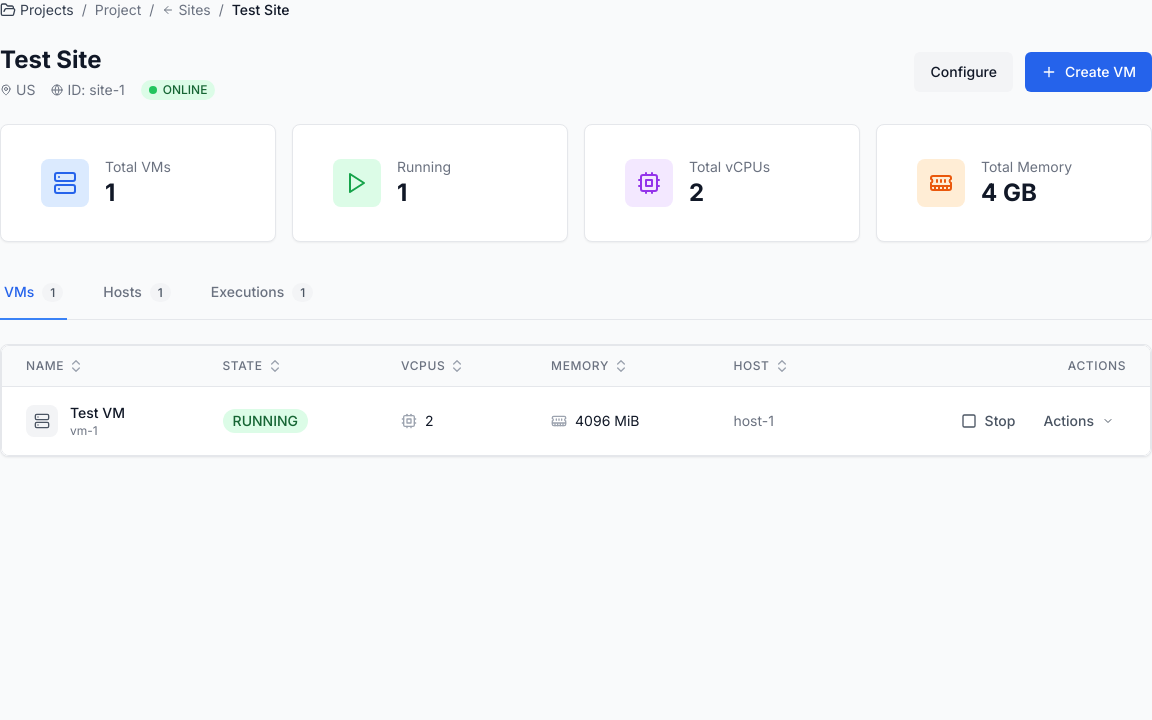
Scenario: SiteDashboard › opens create VM modal when button is clicked
Click the button "Create VM". click: x=1088, y=72
box: [1025,52,1151,92]
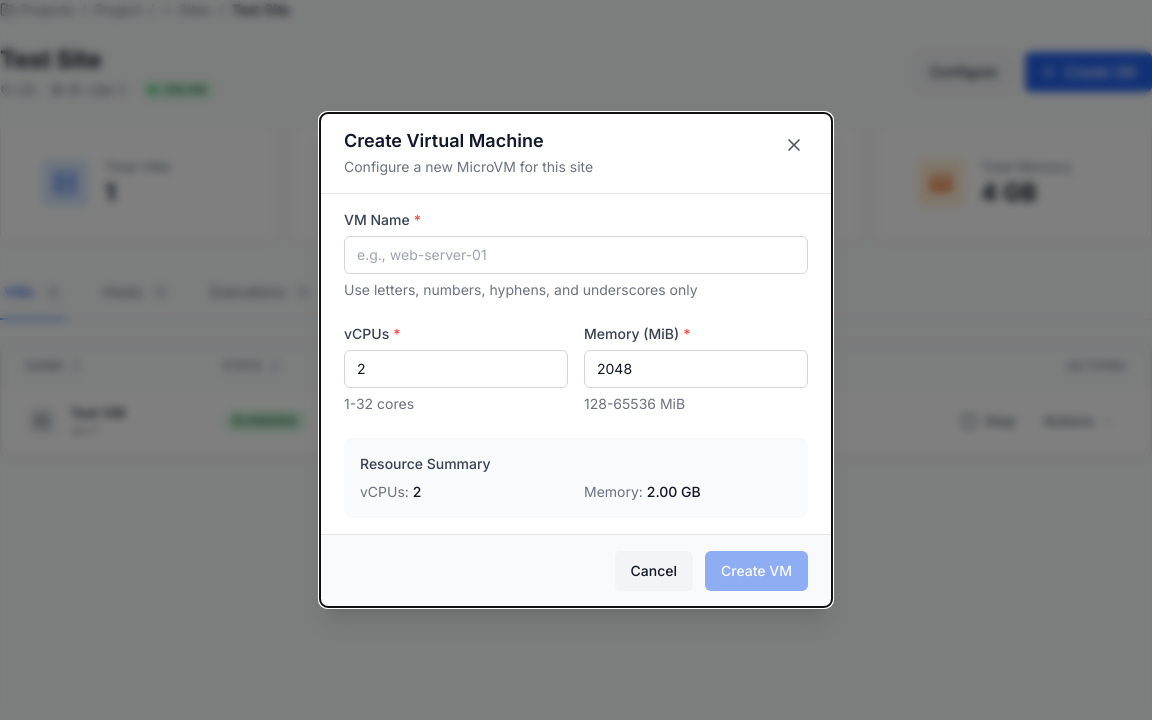
Now the heading "Create Virtual Machine" is shown, box [344,130,544,151]
